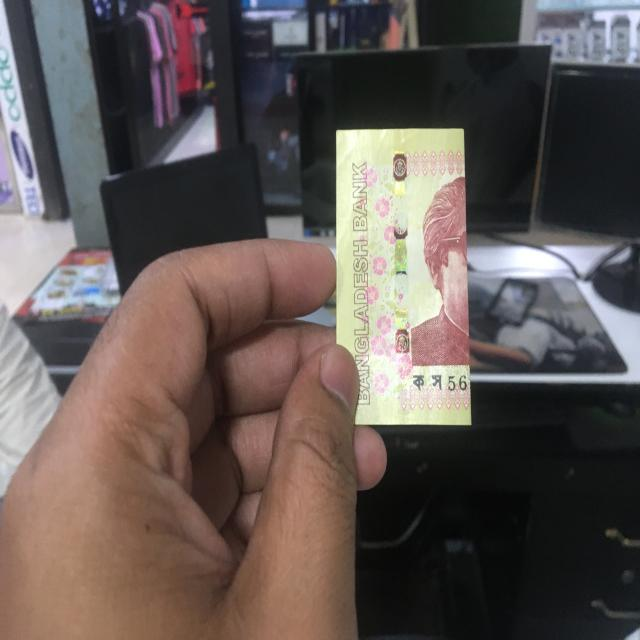Taka: (335, 127, 469, 424)
